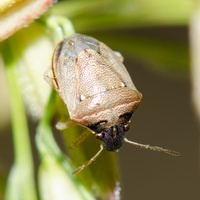insect: (44, 34, 141, 150)
